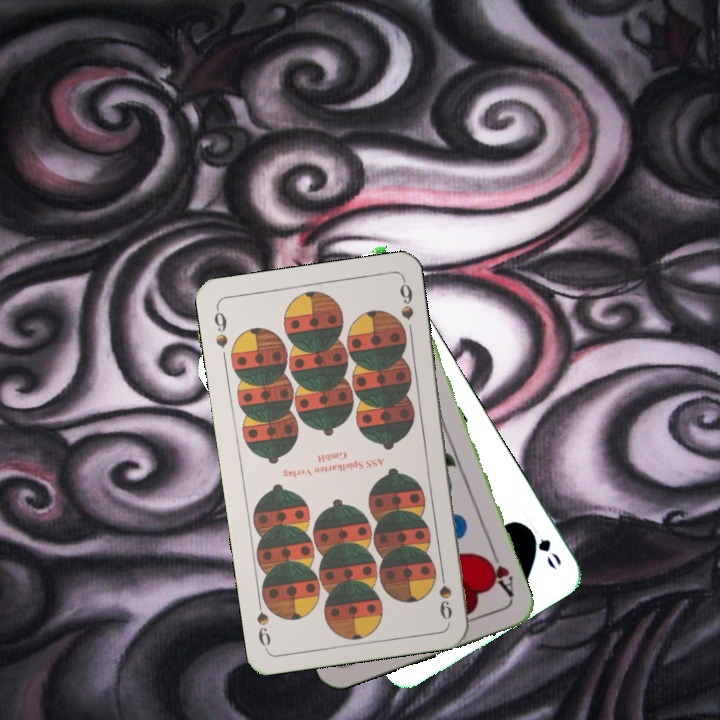GO: (521, 521, 565, 572)
HA: (480, 544, 517, 600)
S9: (435, 564, 455, 623), (210, 303, 231, 351)
